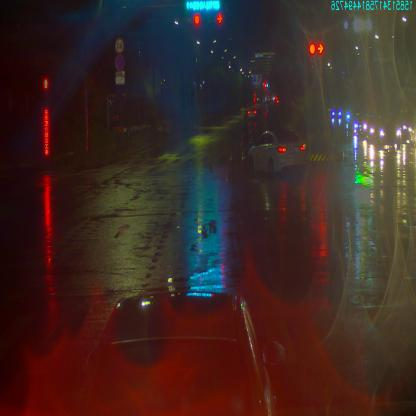traffic-light: (185, 0, 220, 9), (216, 13, 224, 24), (192, 15, 200, 25)
